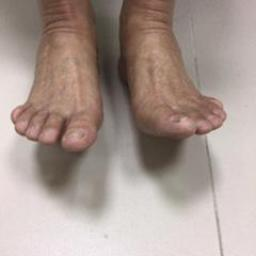Front View -Both Feet-: (6, 1, 240, 178)
